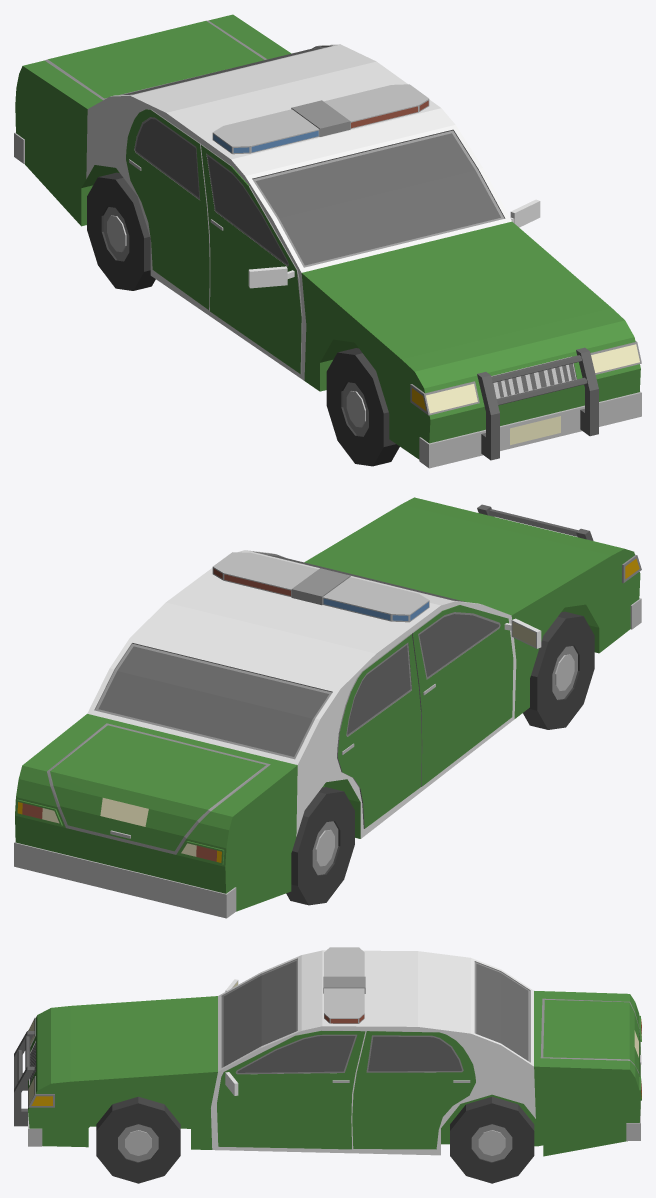
The model's file is police kar_2.fbx.
The picture shows the model from 3 angles, top to bottom: view 1: azimuth 30°, elevation 25°; view 2: azimuth 150°, elevation 25°; view 3: azimuth 270°, elevation 25°; orthographic projection. The views are drawn at different scales.
Visible parts, largest first — view 1: sfsd_1, Cylinder_2_9, Cylinder_2_1; view 2: sfsd_1, Cylinder_2_9, Cylinder_2_1; view 3: sfsd_1, Cylinder_2_8, Cylinder_2.
Part boxes in pixels (x1,y1,x2,y2): sfsd_1: (14,14,641,468); Cylinder_2_9: (326,348,399,466); Cylinder_2_1: (87,172,155,290); sfsd_1: (14,497,641,918); Cylinder_2_9: (523,611,594,729); Cylinder_2_1: (286,787,354,905); sfsd_1: (14,947,641,1156); Cylinder_2_8: (96,1096,180,1183); Cylinder_2: (450,1096,534,1183).
Bounding box in the file's own units: 201 × 147 × 511.
